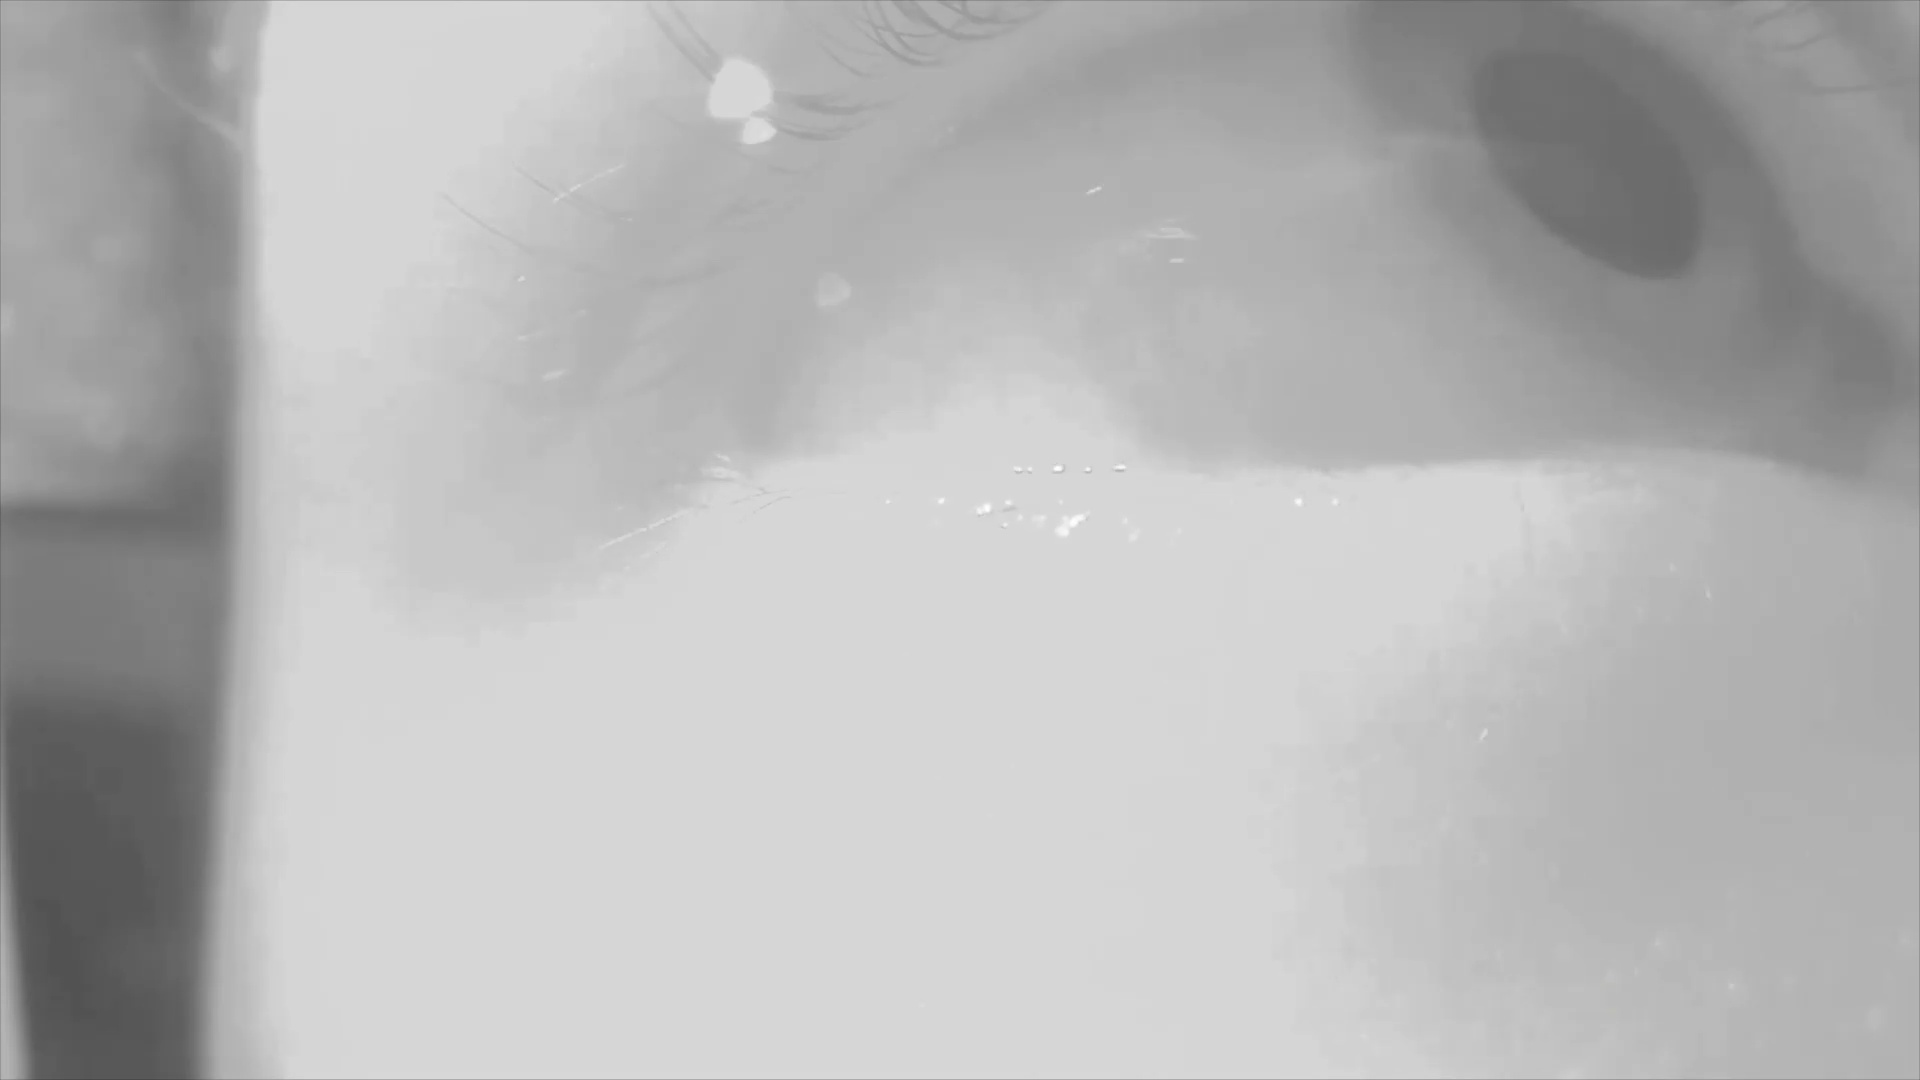pupil: (1476, 41, 1707, 278)
